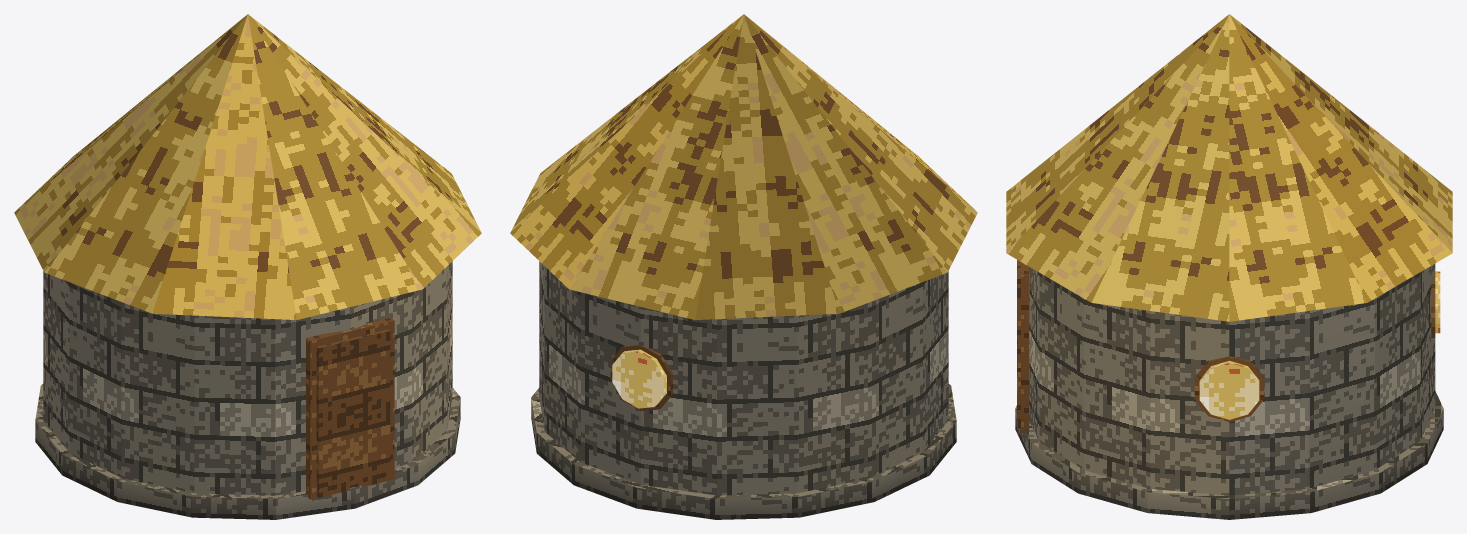
Rendered from arch.house__round_cottage.glb.
The picture shows the model from 3 angles, left to right: view 1: azimuth 30°, elevation 25°; view 2: azimuth 150°, elevation 25°; view 3: azimuth 270°, elevation 25°; orthographic projection.
Parts seen in each view (by area): view 1: kit_house_roof, kit_house_walls, kit_house_detail; view 2: kit_house_roof, kit_house_walls, kit_house_windows, kit_house_detail; view 3: kit_house_roof, kit_house_walls, kit_house_detail, kit_house_windows.
Boxes of the visible parts, x1,y1,x2,y2 form: kit_house_roof: (14, 14, 481, 319); kit_house_walls: (35, 261, 460, 519); kit_house_detail: (306, 317, 394, 499); kit_house_roof: (510, 14, 977, 319); kit_house_walls: (531, 261, 956, 519); kit_house_windows: (612, 349, 666, 408); kit_house_detail: (610, 345, 672, 411); kit_house_roof: (1006, 14, 1452, 321); kit_house_walls: (1015, 264, 1443, 519); kit_house_detail: (1017, 260, 1435, 432); kit_house_windows: (1199, 271, 1440, 419).
Bounding box in the file's own units: 5.7 × 5.56 × 5.42.
5 materials, 5 textured.
